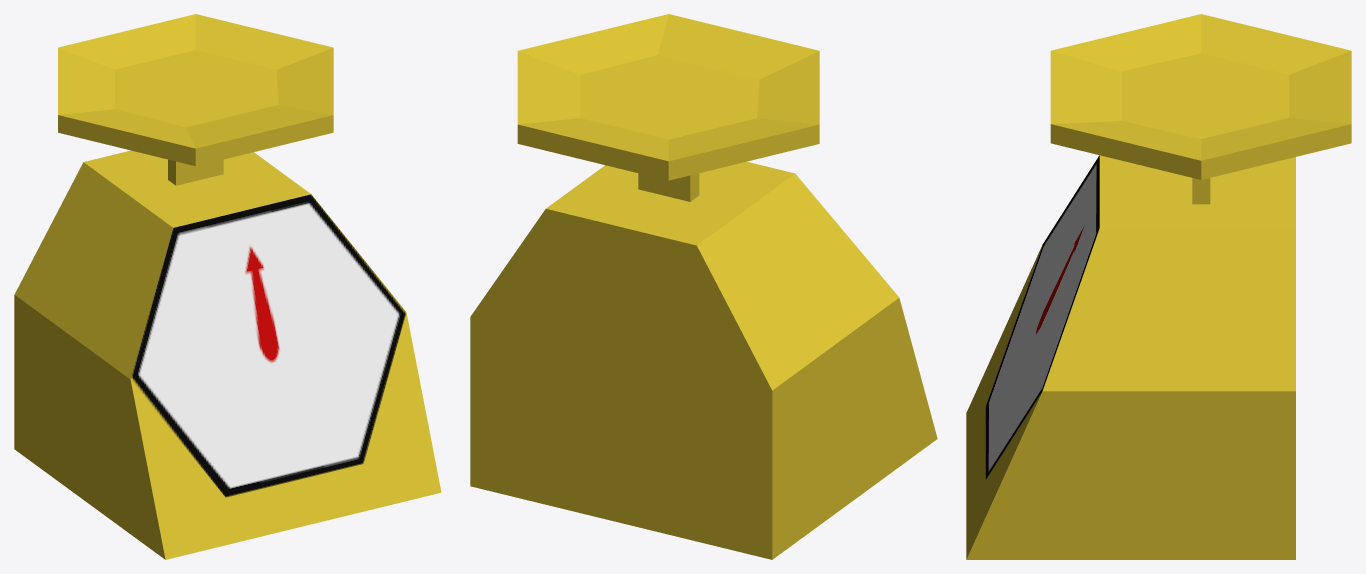
Rendered from scale1_PLY.fbx.
3 views of the same model, side by side, from view 1: azimuth 30°, elevation 25°; view 2: azimuth 150°, elevation 25°; view 3: azimuth 270°, elevation 25° (orthographic). The views are drawn at different scales.
Parts seen in each view (by area): view 1: scale1_PLY; view 2: scale1_PLY; view 3: scale1_PLY.
Part boxes in pixels (left/top/right/bottom): scale1_PLY: left=14, top=14, right=441, bottom=559; scale1_PLY: left=470, top=14, right=937, bottom=559; scale1_PLY: left=966, top=14, right=1351, bottom=559.
Bounding box in the file's own units: 1.02 × 1.29 × 1.13.
